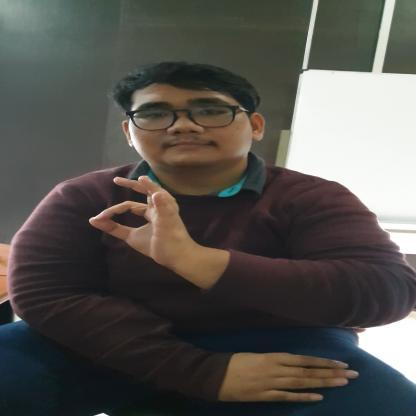O: (81, 174, 187, 260)
